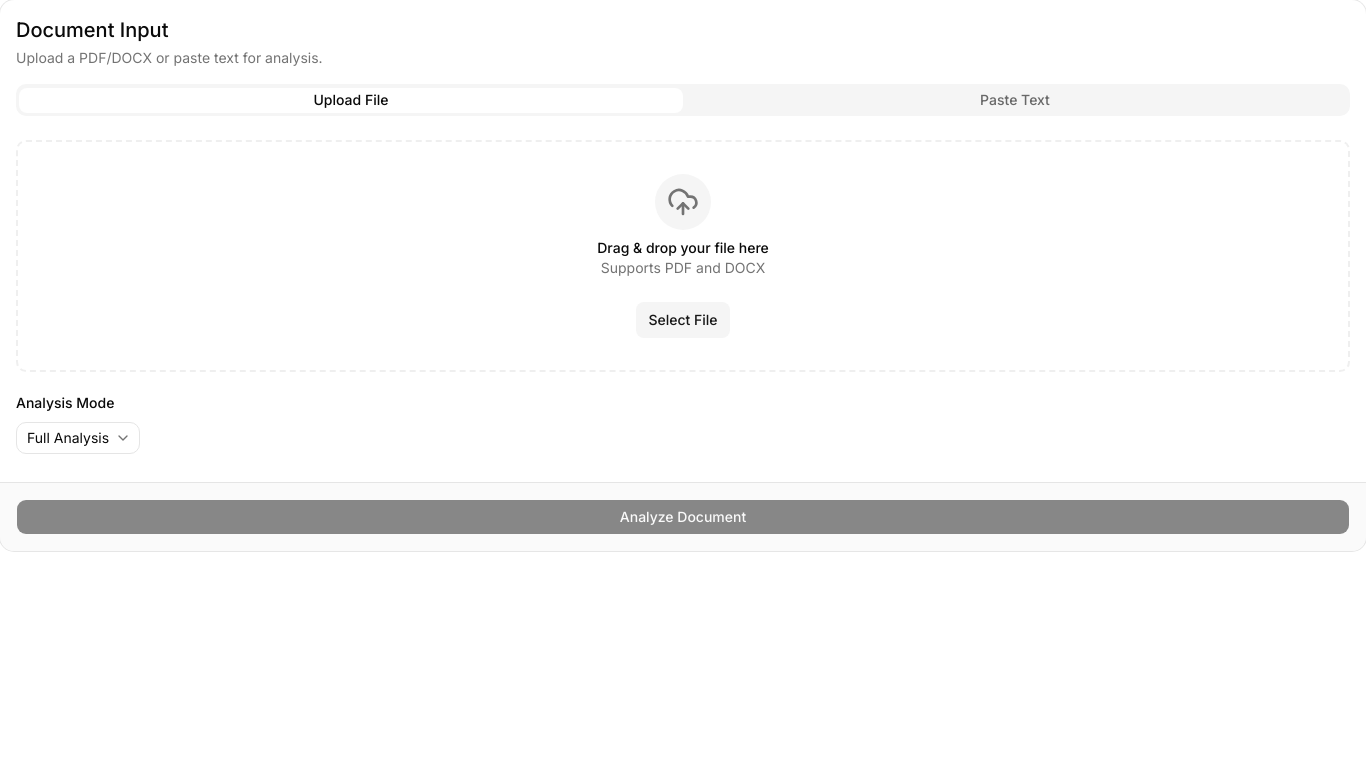
it: DocumentInput Component › enables analyze button when text is pasted
The image size is (1366, 768).
Click the tab "Paste Text": (1015, 100) [683,88,1347,112]
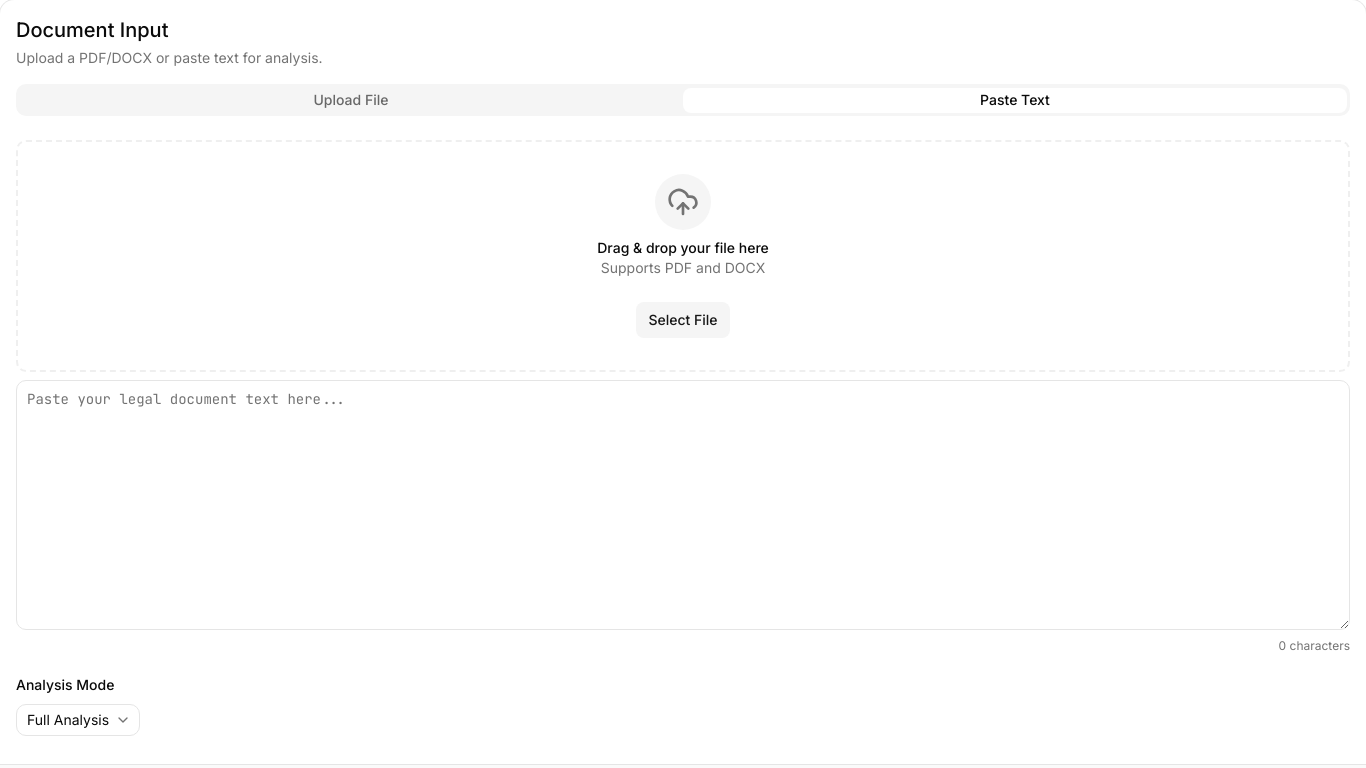
In the text box with placeholder "Paste your legal document text here...": (683, 505) [16,380,1350,630], type "Sample legal document"
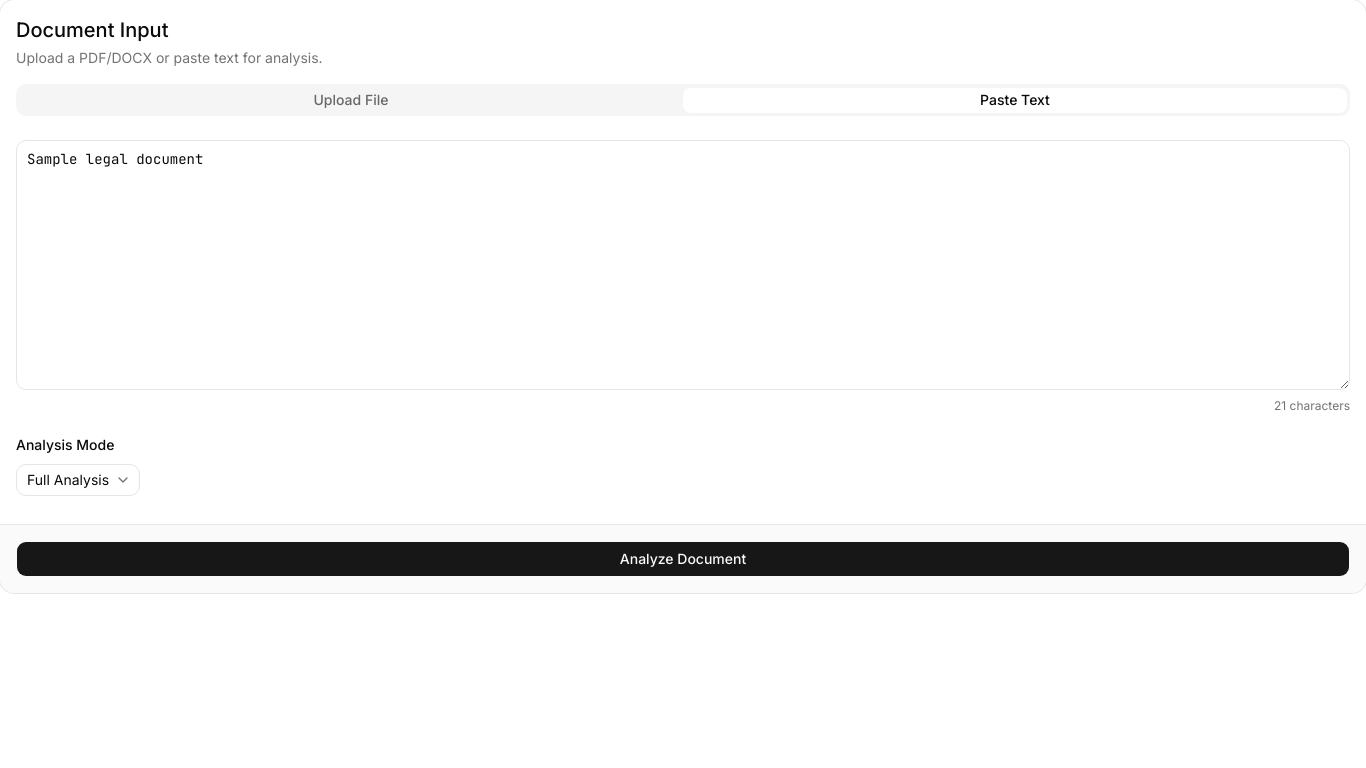
Now the button "Analyze Document" is enabled, box [16,541,1350,577]
